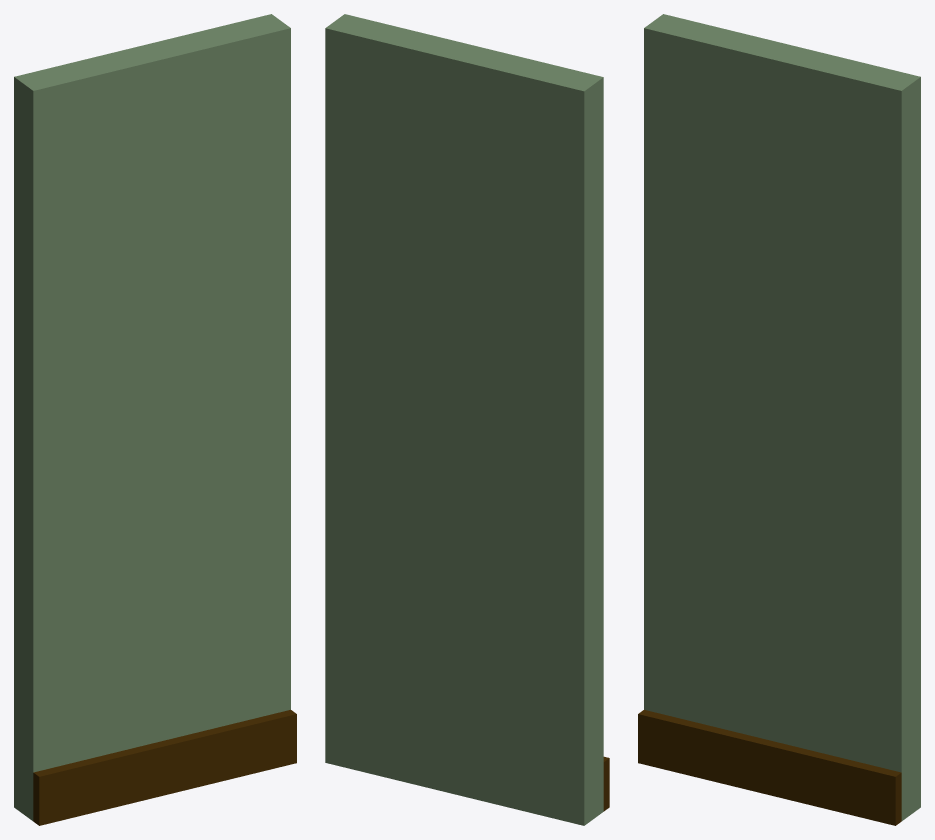
Rendered from Ma_Wall_Small.fbx.
3 views of the same model, side by side, from view 1: azimuth 30°, elevation 25°; view 2: azimuth 150°, elevation 25°; view 3: azimuth 330°, elevation 25° (orthographic).
Parts seen in each view (by area): view 1: Ma_Wall_Small; view 2: Ma_Wall_Small; view 3: Ma_Wall_Small.
Part boxes in pixels (x1,y1,x2,y2): Ma_Wall_Small: [14, 14, 296, 825]; Ma_Wall_Small: [325, 14, 609, 825]; Ma_Wall_Small: [638, 14, 920, 825].
Bounding box in the file's own units: 1000 × 170 × 2711.
